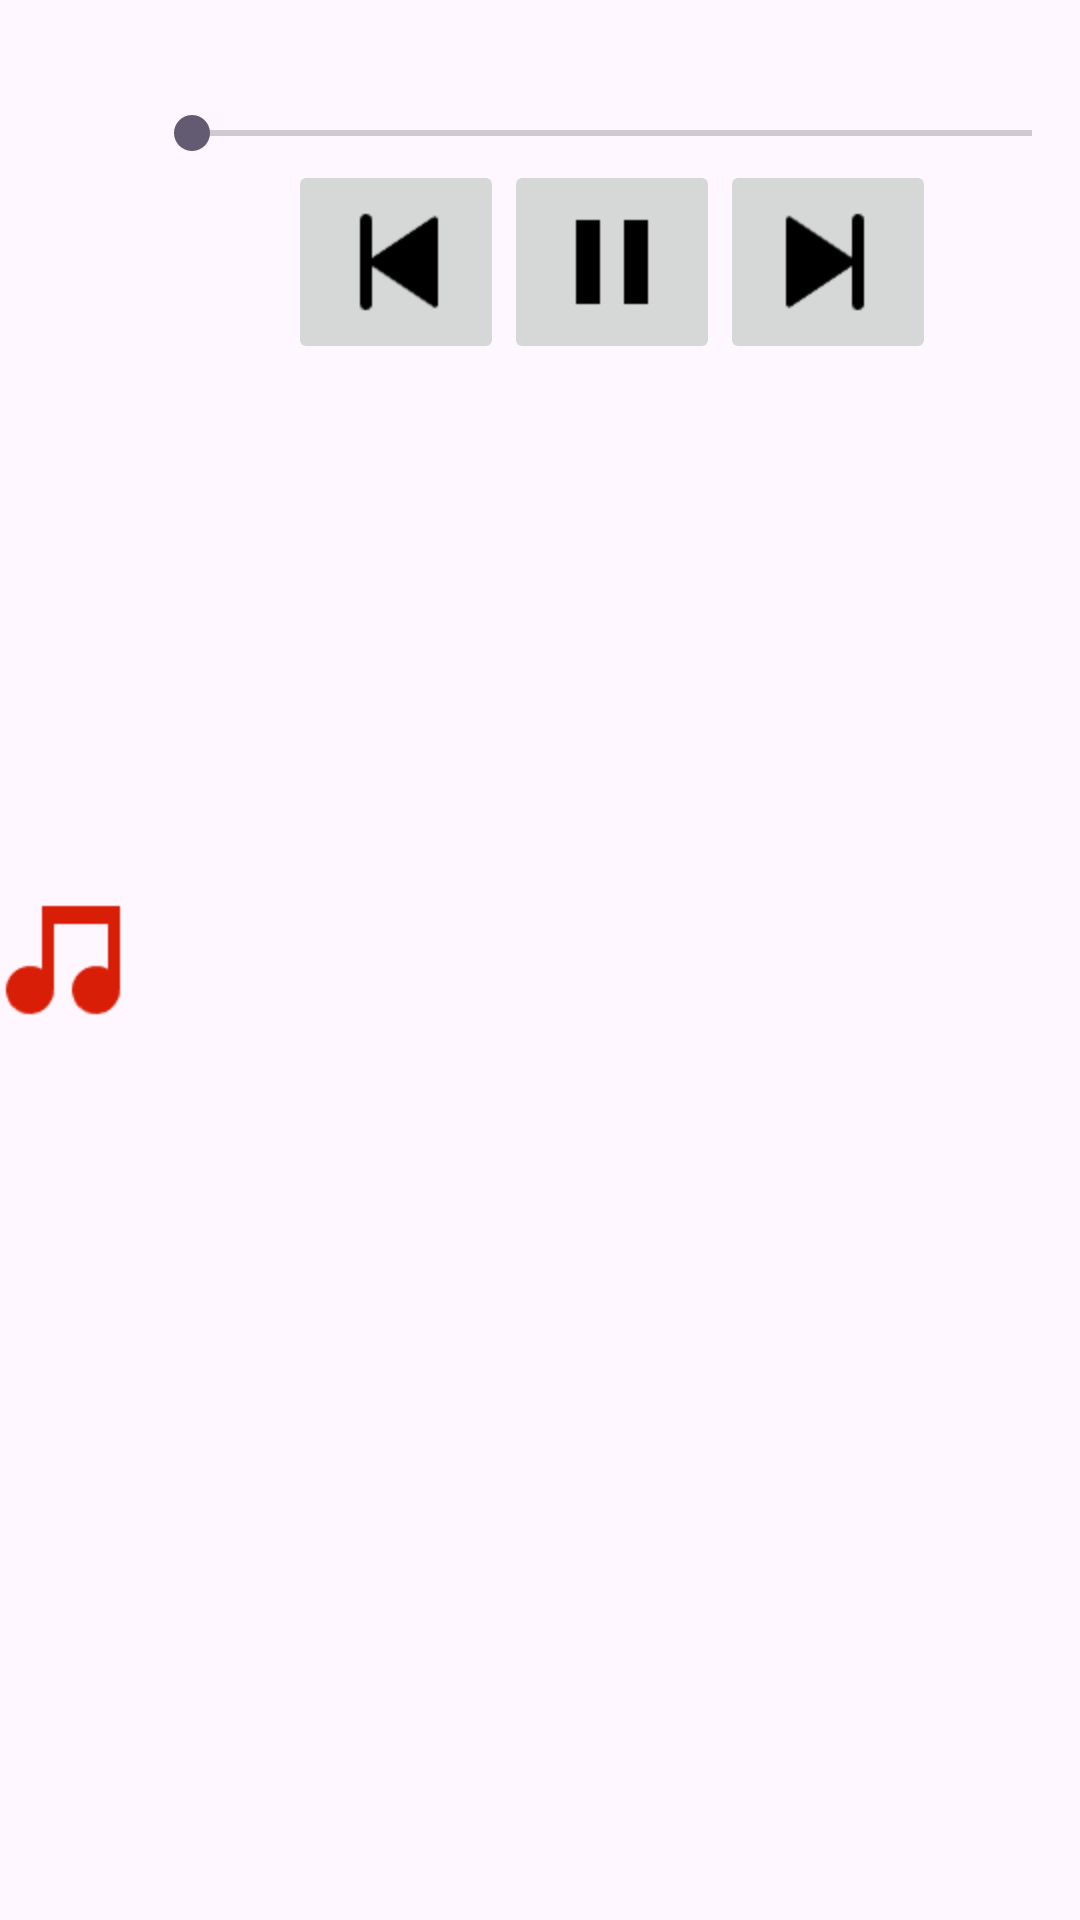

Icons on this 1080 × 1920 Android screen, each with the point to tap as point (x, y):
left: point (396, 262)
media: point (63, 960)
pause: point (612, 262)
right: point (828, 262)
